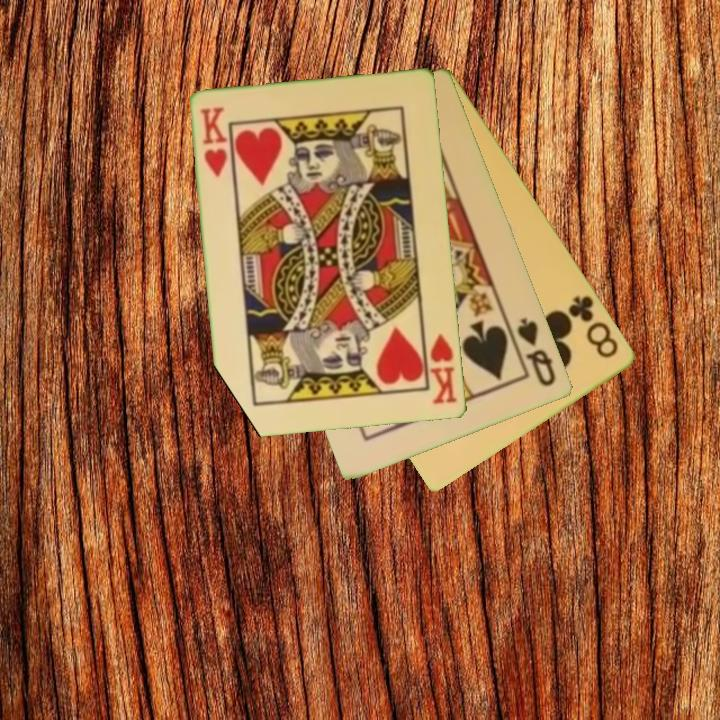8c: (565, 292, 622, 362)
Kh: (421, 326, 461, 408), (197, 104, 231, 181)
Qs: (514, 313, 559, 390)
